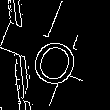O_N: (26, 23, 84, 87)
